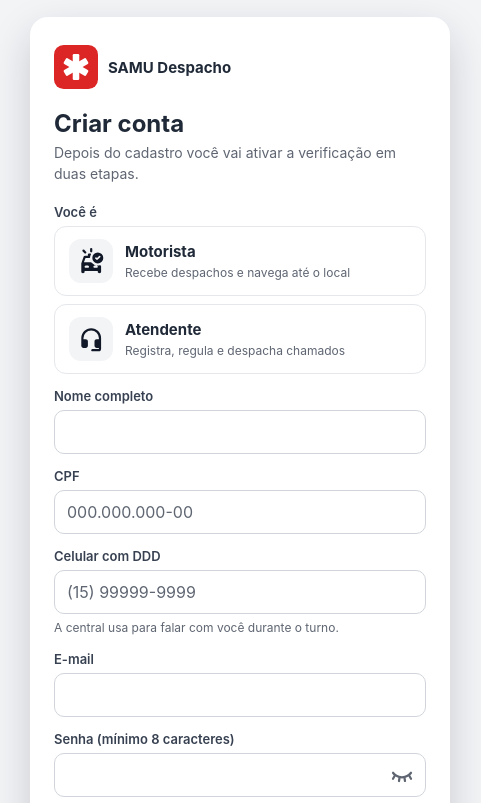
Test case: cadastro › código da central só para atendente; motorista não informa CNH
Click the text "Motorista": coordinates (160, 251) [125,242,196,260]
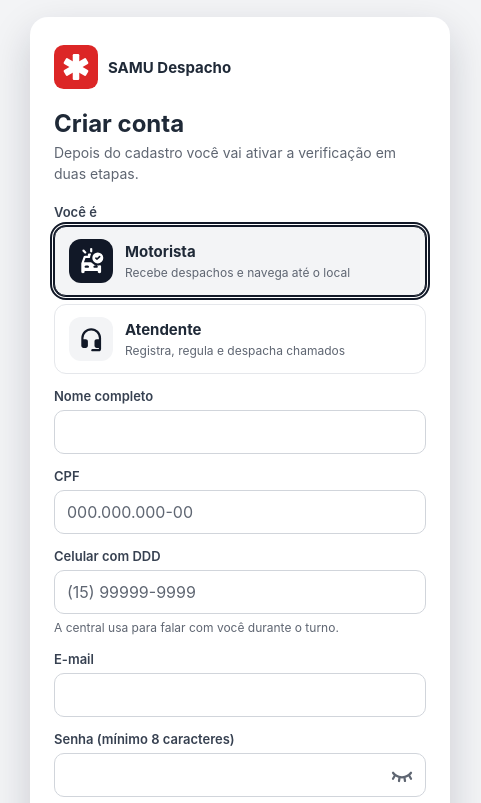
Expected: the field labelled "Código da central" is not shown
Click the text "Atendente": coordinates (163, 329) [125,320,201,338]
(page scrolled)
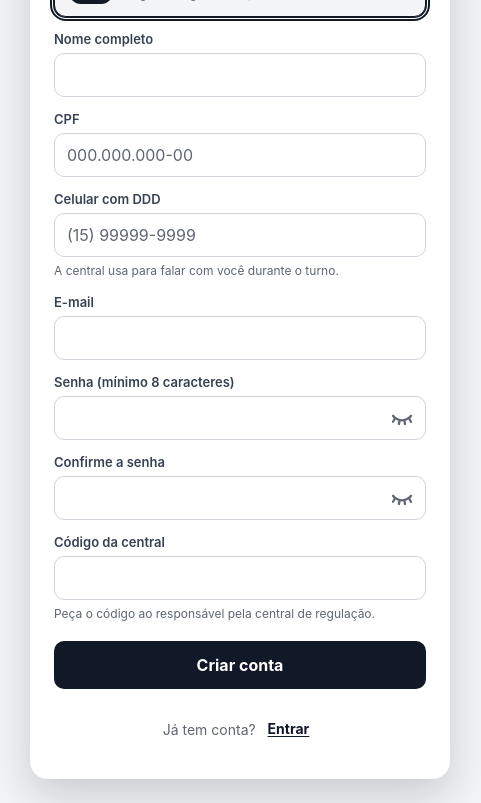
Result: the field labelled "Código da central" is shown at [54,556,426,600]
